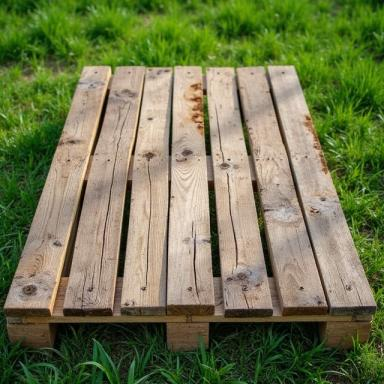pallet: (3, 65, 377, 356)
